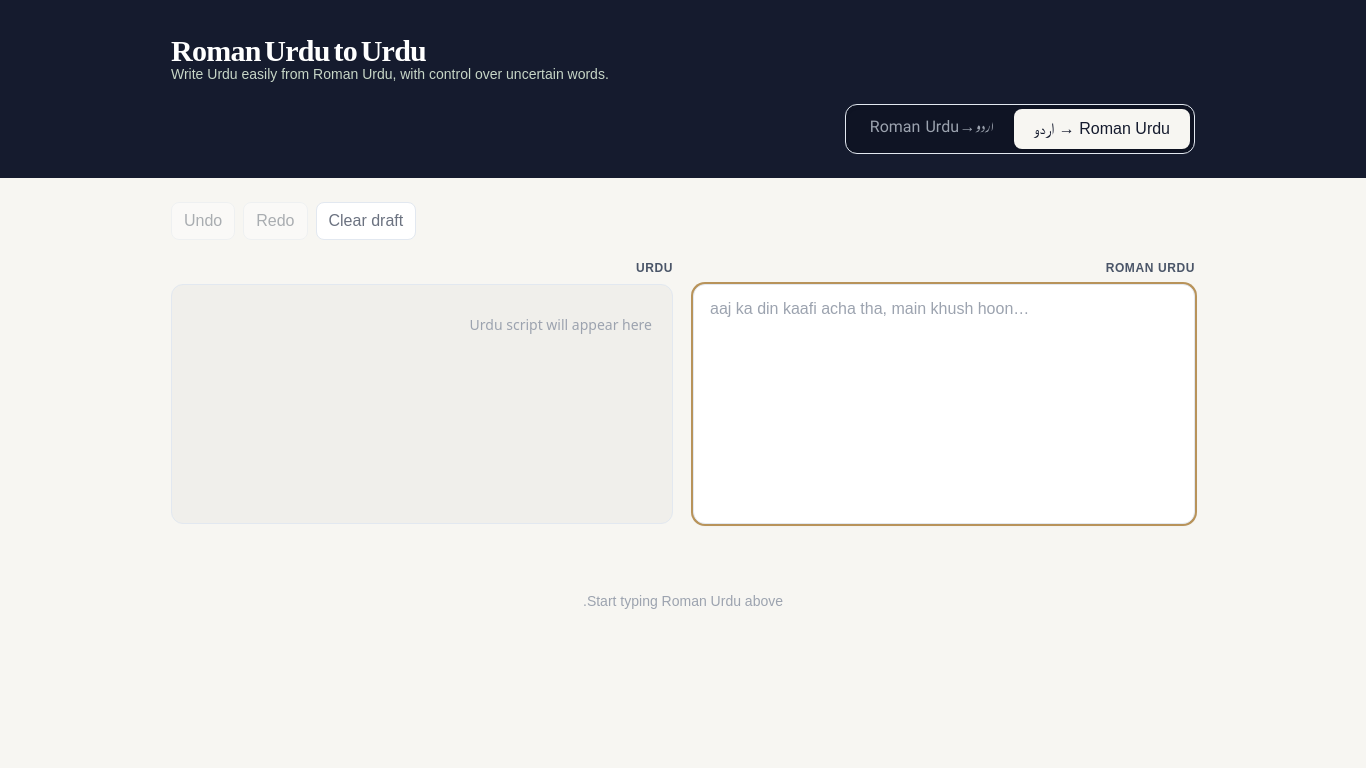
Test: 5. protected URL not in review
Type "jao www.qalam.works pe" into the text box with id "roman-input".
click(944, 404); type("jao www.qalam.works pe")  # box [693,284,1195,524]
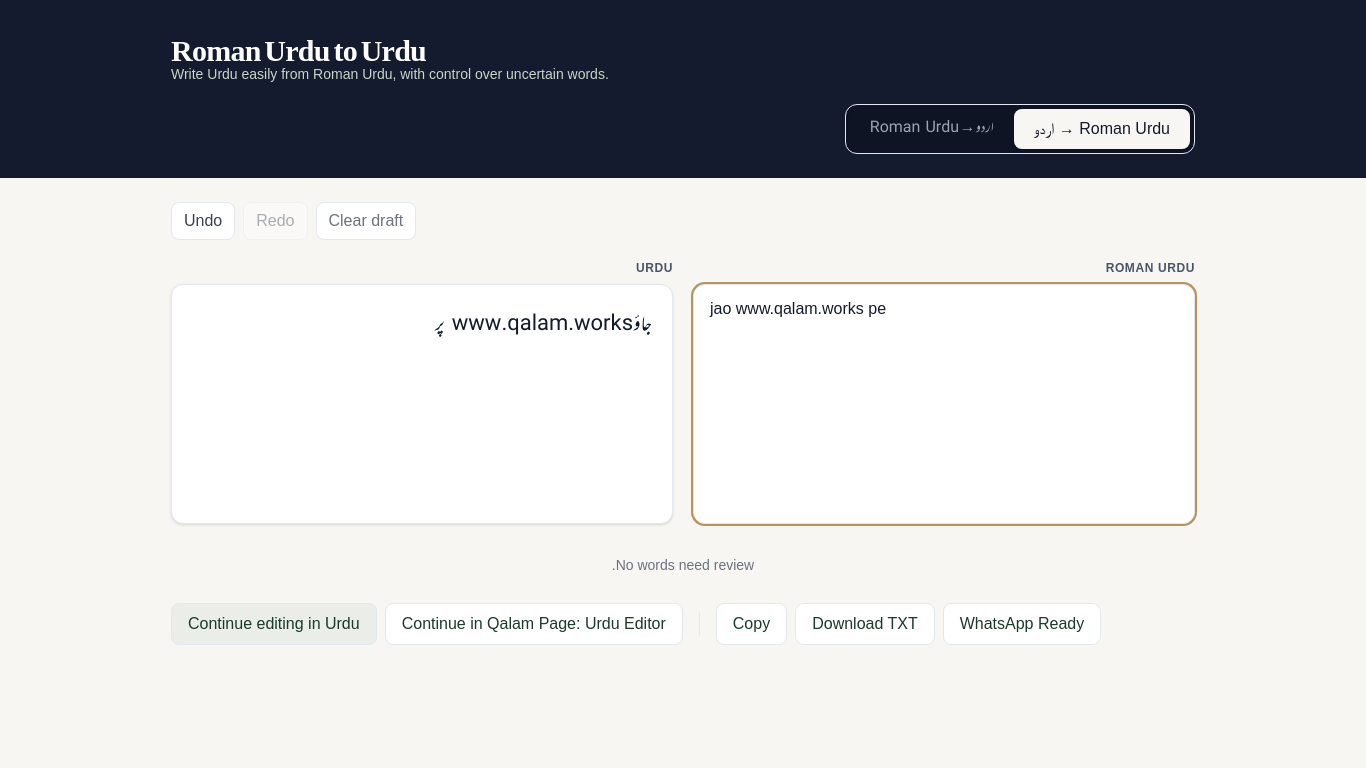
Check: the message shows "www.qalam.works", box [435,306,652,344]
